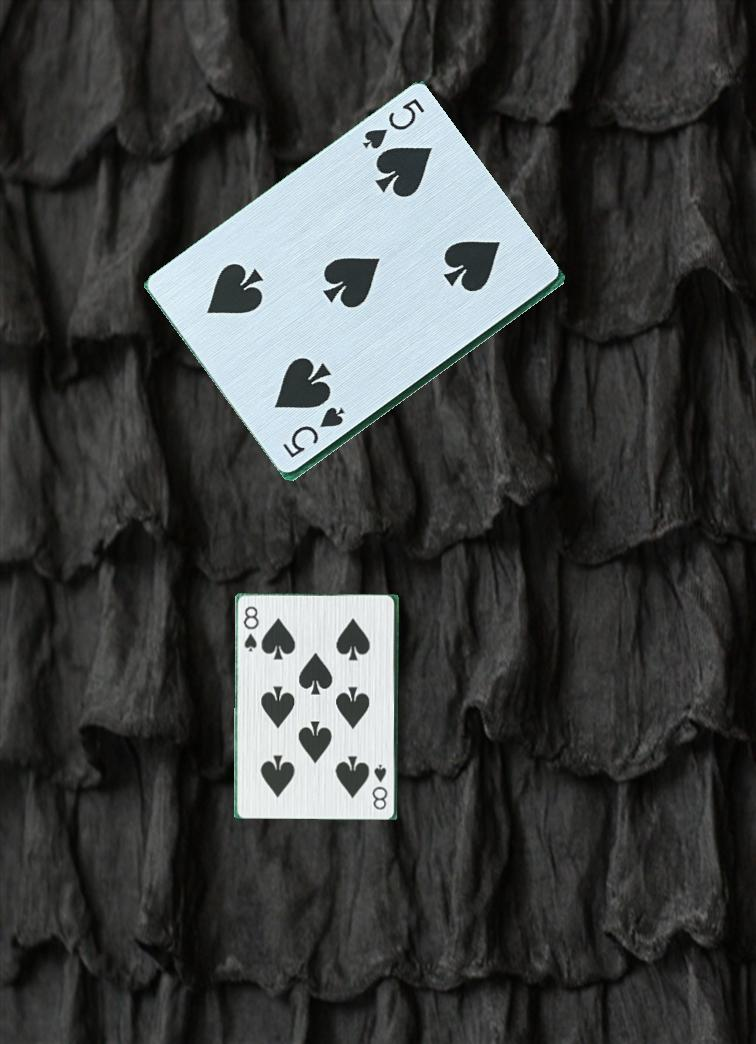5s: (358, 95, 435, 163), (279, 404, 348, 468)
8s: (239, 596, 260, 654), (370, 758, 390, 812)
